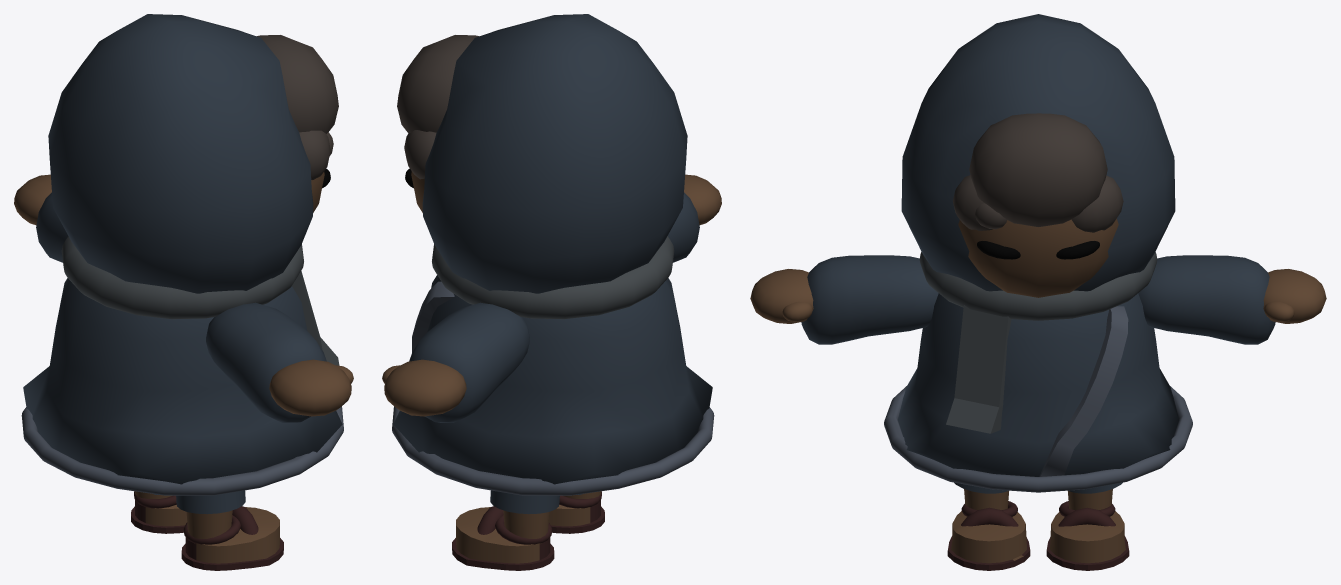
The model's file is OLD WOMAN blue.fbx.
3 views of the same model, side by side, from view 1: azimuth 30°, elevation 25°; view 2: azimuth 150°, elevation 25°; view 3: azimuth 270°, elevation 25° (orthographic). The views are drawn at different scales.
Parts seen in each view (by area): view 1: polySurface54; view 2: polySurface54; view 3: polySurface54.
Part boxes in pixels (x1,y1,x2,y2): polySurface54: (14, 14, 353, 570); polySurface54: (382, 14, 721, 570); polySurface54: (750, 14, 1326, 570).
Bounding box in the file's own units: 0.0247 × 0.0433 × 0.0443.
